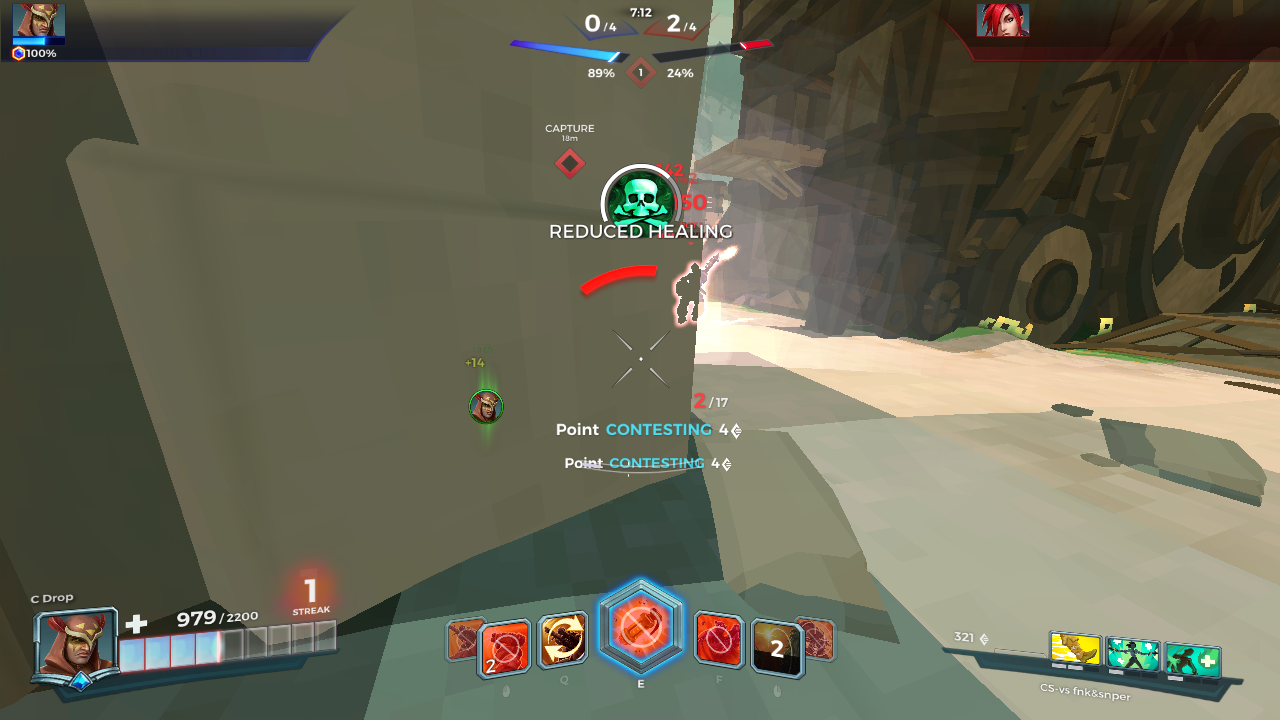model: (675, 255, 711, 329)
